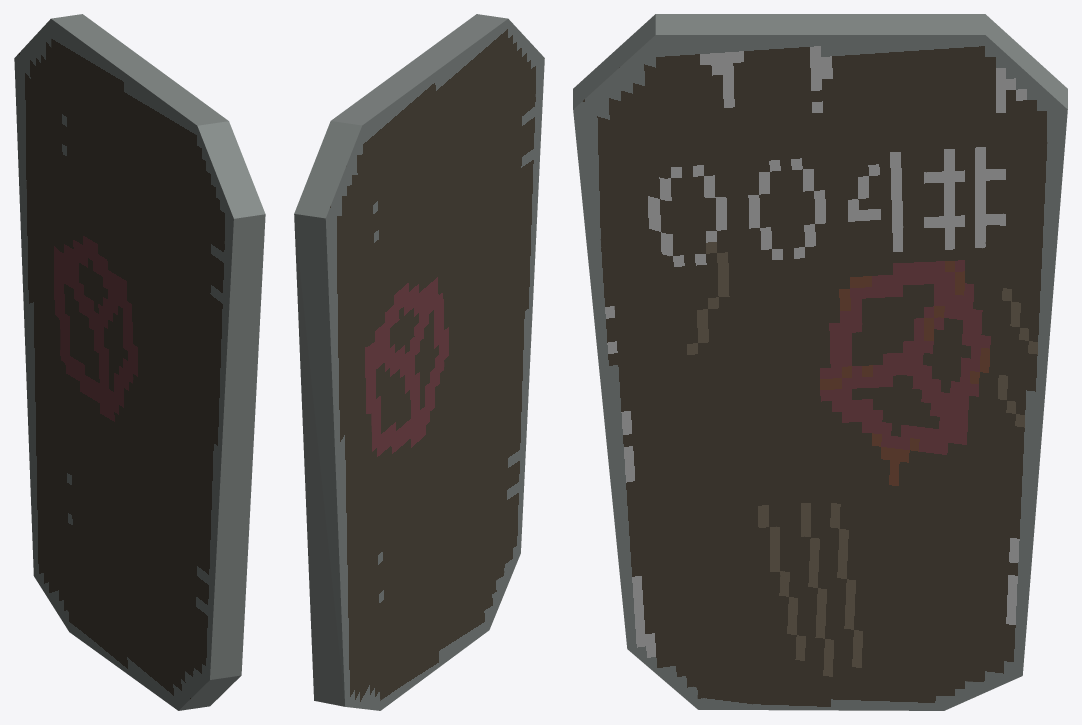
Rendered from subdoor.gltf.
3 views of the same model, side by side, from view 1: azimuth 30°, elevation 25°; view 2: azimuth 150°, elevation 25°; view 3: azimuth 270°, elevation 25° (orthographic). The views are drawn at different scales.
Bounding box in the file's own units: 0.25 × 4.55 × 3.
Materials: 1 (1 with a texture image).
